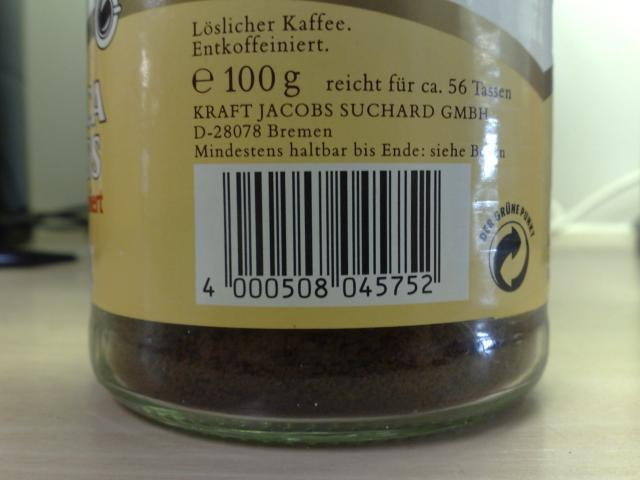Barcode: (193, 163, 469, 305)
